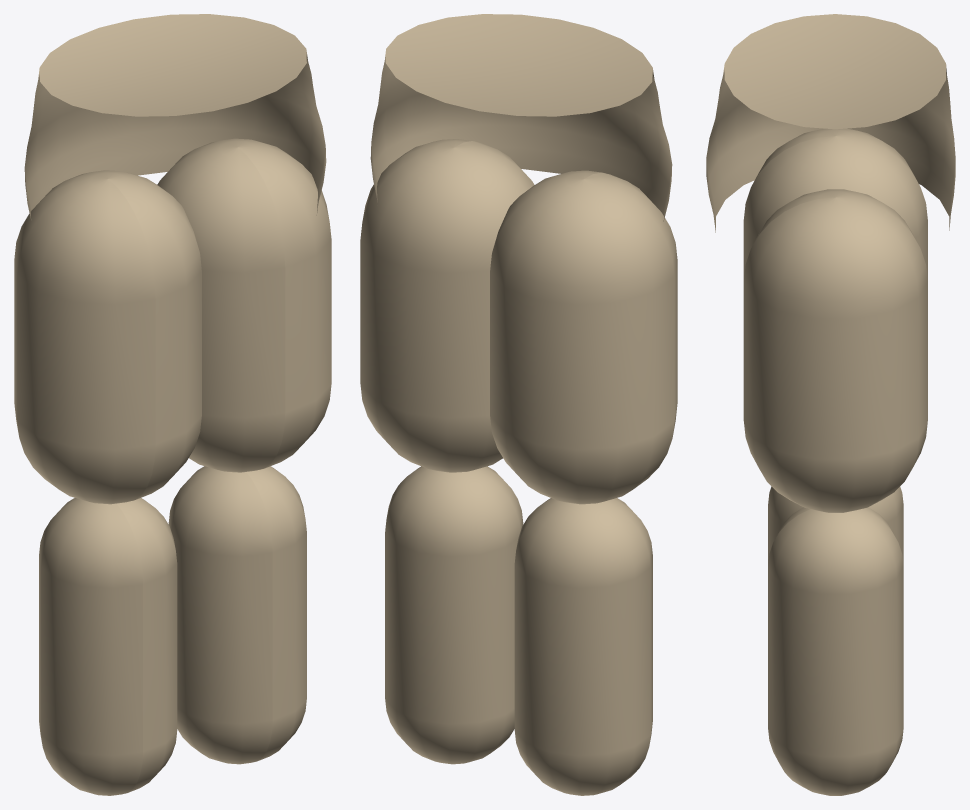
Rendered from pants-beige-v1.glb.
3 views of the same model, side by side, from view 1: azimuth 30°, elevation 25°; view 2: azimuth 150°, elevation 25°; view 3: azimuth 270°, elevation 25° (orthographic). The views are drawn at different scales.
Parts seen in each view (by area): view 1: pants_thigh_R, pants_thigh_L, pants_waist, pants_calf_R, pants_calf_L; view 2: pants_thigh_R, pants_thigh_L, pants_waist, pants_calf_R, pants_calf_L; view 3: pants_thigh_L, pants_calf_L, pants_waist, pants_thigh_R, pants_calf_R.
Boxes of the visible parts, x1,y1,x2,y2 form: pants_thigh_R: (14,170,201,504); pants_thigh_L: (157,138,331,472); pants_waist: (24,14,326,220); pants_calf_R: (39,498,177,795); pants_calf_L: (168,466,306,764); pants_thigh_R: (490,170,677,504); pants_thigh_L: (360,139,534,472); pants_waist: (370,14,672,221); pants_calf_R: (514,498,652,795); pants_calf_L: (385,466,523,764); pants_thigh_L: (743,189,927,512); pants_calf_L: (768,507,903,795); pants_waist: (706,14,955,232); pants_thigh_R: (743,128,927,280); pants_calf_R: (768,486,903,564).
Size of the model in its own units: 0.4023 by 0.94 by 0.3088.
